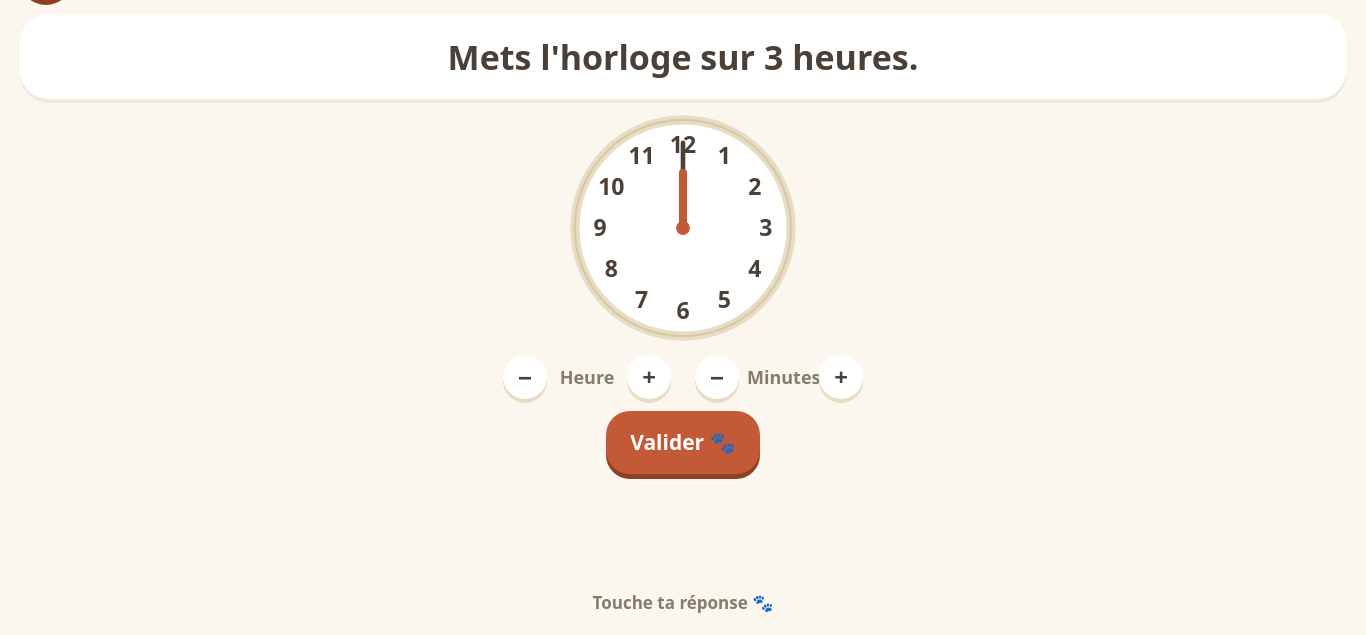
Test case: ExerciseView — régler l'horloge (clockset) › valider une mauvaise heure propose de réessayer
Note: On valide sans bouger (12 h ≠ 3 h).
Click the button "Valider 🐾" at (683, 442), box [606, 410, 760, 474]
(page scrolled)
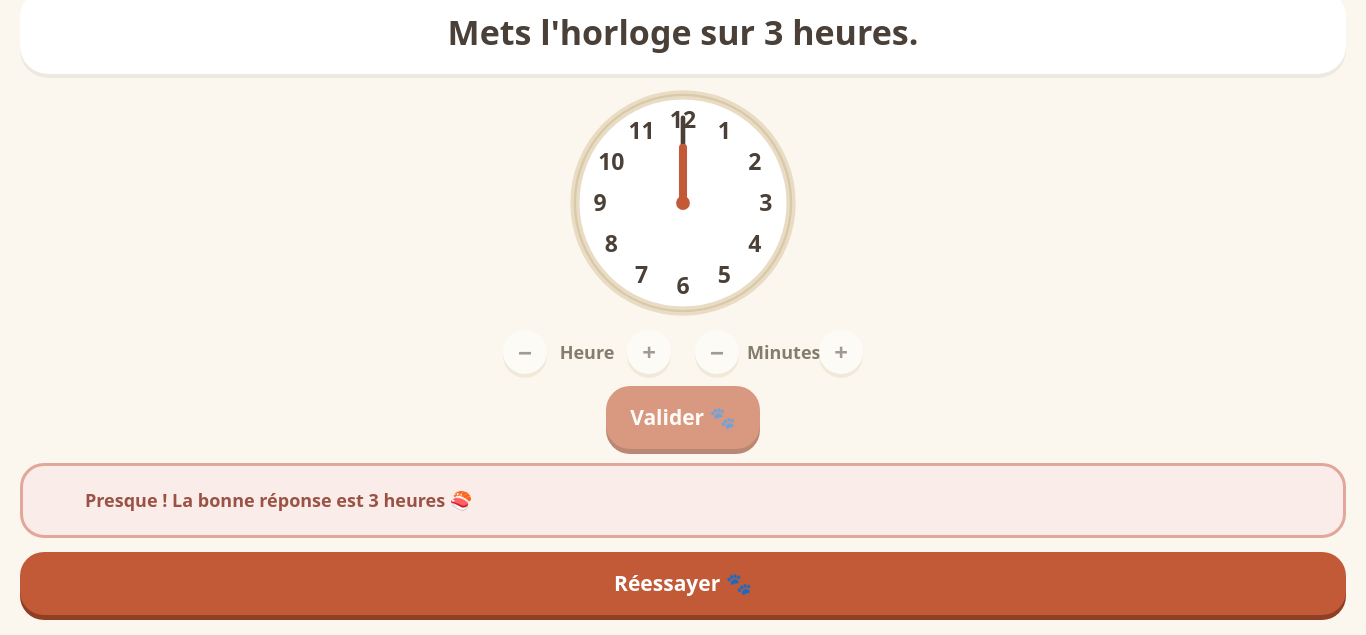
Expected: the button "Réessayer 🐾" is shown, [20, 552, 1346, 615]
